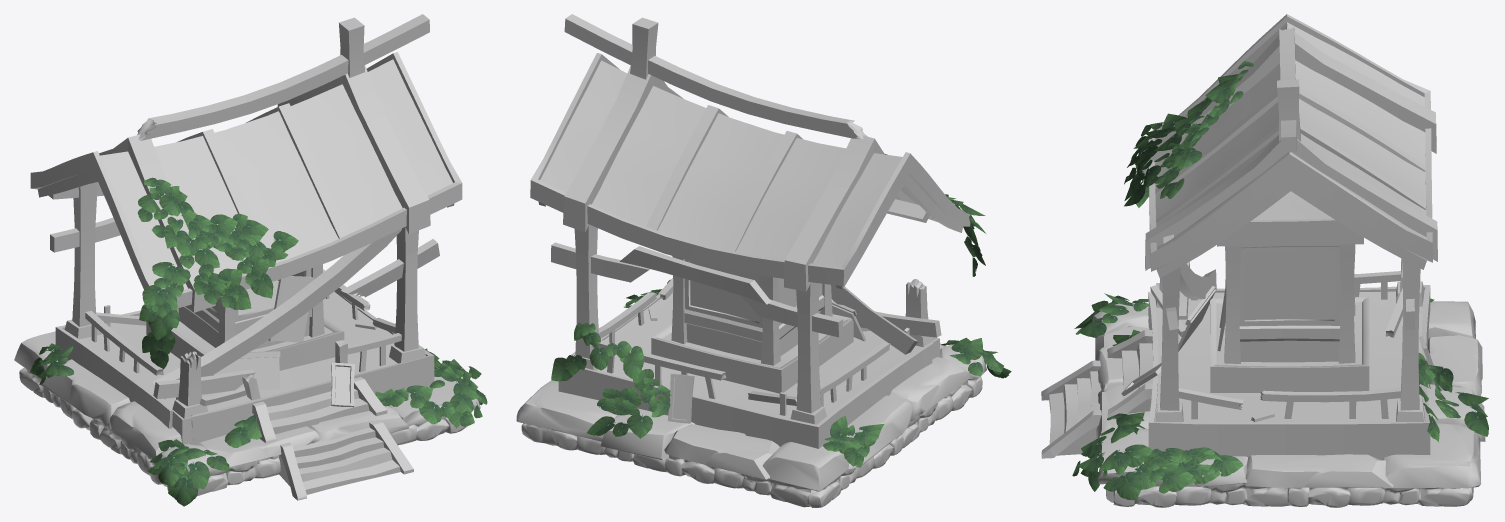
Rendered from SM_EastLands_AncientShrine_01.fbx.
3 renders of one model, left to right at view 1: azimuth 30°, elevation 25°; view 2: azimuth 150°, elevation 25°; view 3: azimuth 270°, elevation 25°, orthographic. The views are drawn at different scales.
Parts seen in each view (by area): view 1: SM_EastLands_AncientShrine_01_LOD0; view 2: SM_EastLands_AncientShrine_01_LOD0; view 3: SM_EastLands_AncientShrine_01_LOD0.
Boxes of the visible parts, left/top/right/bottom form: SM_EastLands_AncientShrine_01_LOD0: left=14, top=14, right=487, bottom=506; SM_EastLands_AncientShrine_01_LOD0: left=516, top=14, right=1011, bottom=507; SM_EastLands_AncientShrine_01_LOD0: left=1041, top=14, right=1488, bottom=507.
Size of what is drawn, in the model's own units: 389 by 378 by 382.
